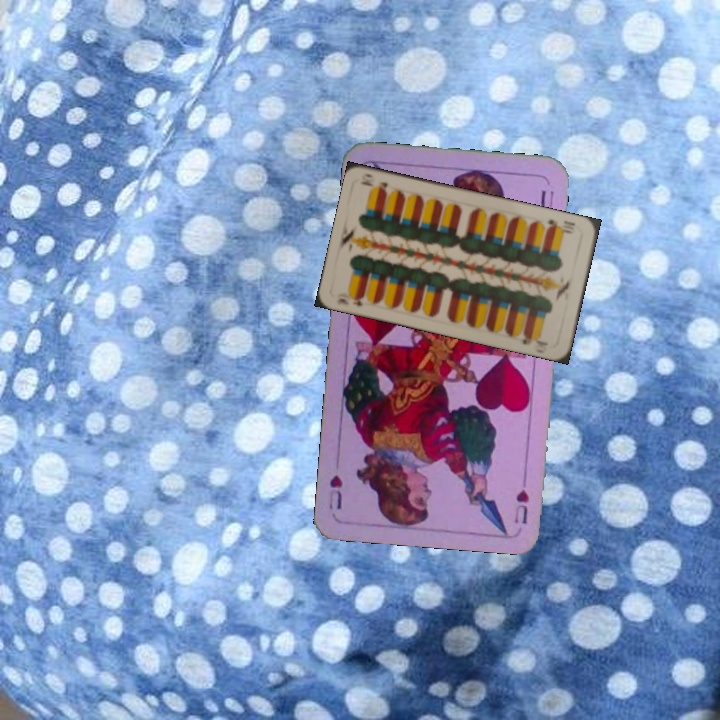E10: (543, 215, 578, 236), (332, 288, 367, 309)
HU: (510, 469, 532, 527)
